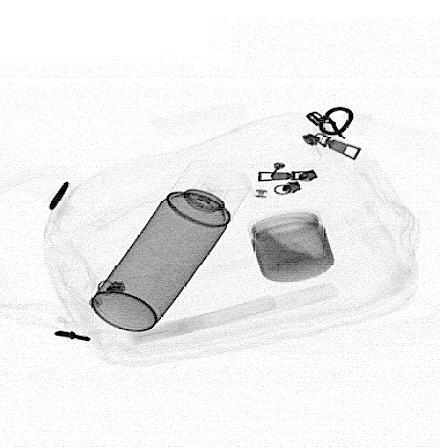Sprayer: (89, 158, 254, 333)
